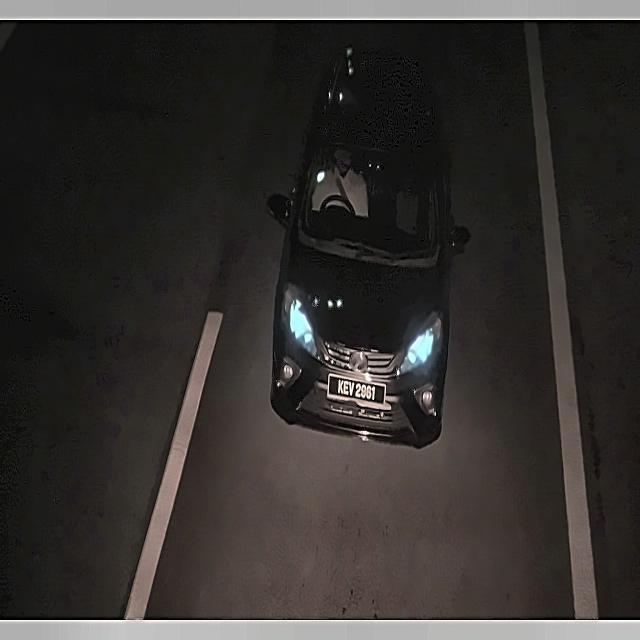car: (323, 363, 392, 414)
